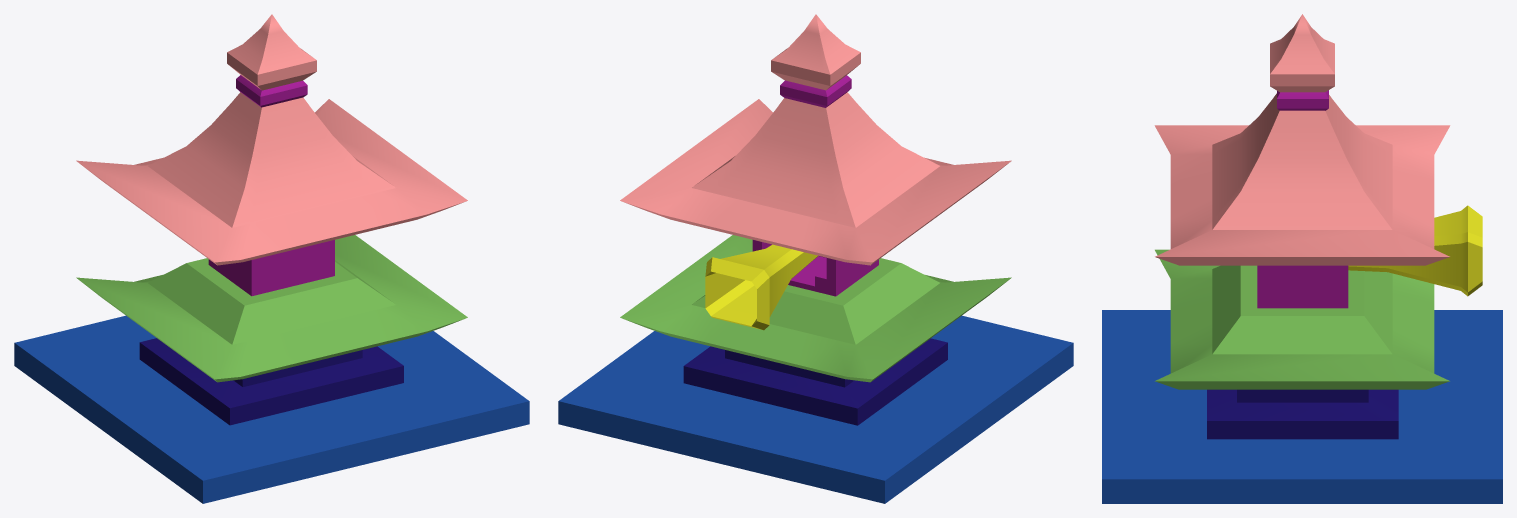
Rendered from SnowballTurret_Upgraded.FBX.
The picture shows the model from 3 angles, left to right: view 1: azimuth 30°, elevation 25°; view 2: azimuth 150°, elevation 25°; view 3: azimuth 270°, elevation 25°; orthographic projection. The views are drawn at different scales.
Parts seen in each view (by area): view 1: Box009, roof, roof001, Box004, Box003; view 2: Box009, roof, roof001, Box004, Box005, Box003; view 3: Box009, roof, roof001, Box004, Box003, Box005.
Boxes of the visible parts, x1=… form: Box009: x1=14, y1=315, x2=529, y2=503; roof: x1=76, y1=14, x2=467, y2=265; roof001: x1=76, y1=235, x2=467, y2=382; Box004: x1=139, y1=338, x2=403, y2=425; Box003: x1=208, y1=75, x2=334, y2=296; Box009: x1=558, y1=315, x2=1073, y2=503; roof: x1=620, y1=14, x2=1011, y2=265; roof001: x1=620, y1=235, x2=1011, y2=382; Box004: x1=683, y1=338, x2=947, y2=425; Box005: x1=705, y1=244, x2=818, y2=330; Box003: x1=752, y1=75, x2=878, y2=296; Box009: x1=1102, y1=310, x2=1502, y2=503; roof: x1=1154, y1=14, x2=1450, y2=265; roof001: x1=1155, y1=249, x2=1449, y2=389; Box004: x1=1207, y1=389, x2=1398, y2=439; Box003: x1=1257, y1=90, x2=1348, y2=308; Box005: x1=1348, y1=205, x2=1482, y2=296.
Size of the model in its own units: 237 by 265 by 237.
